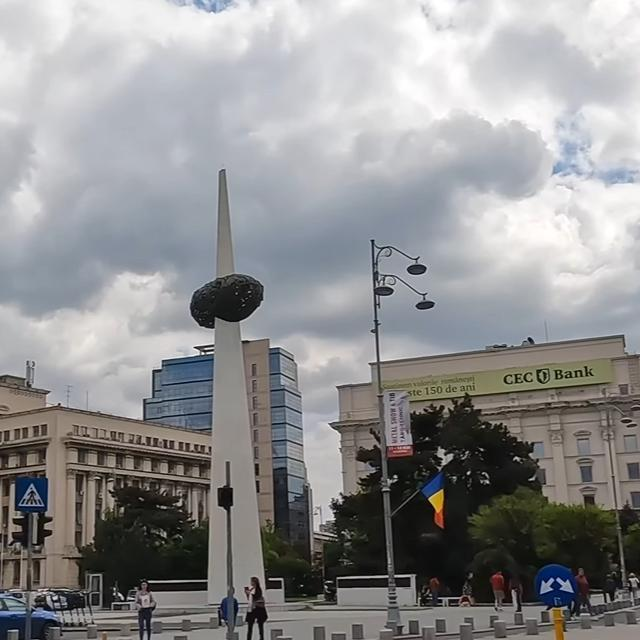info_crosswalk: (14, 476, 48, 511)
